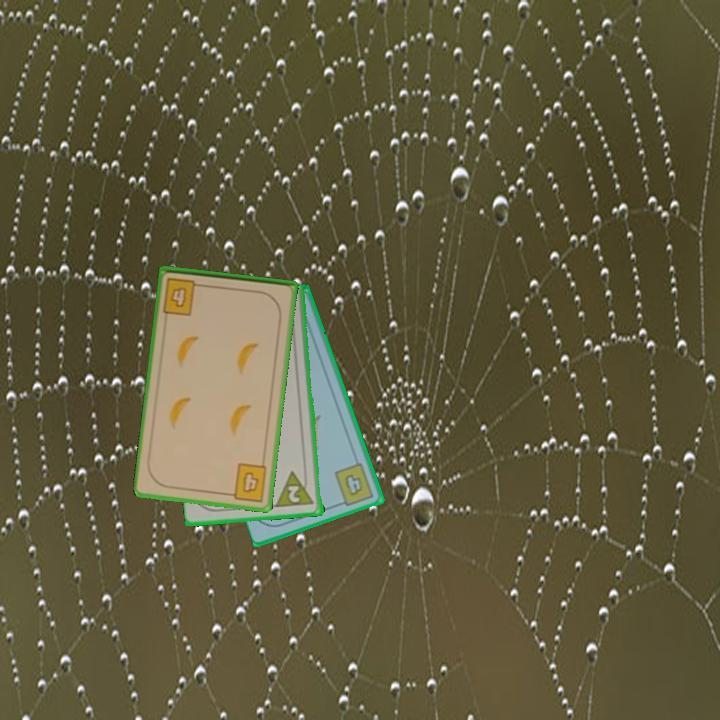2p: (274, 467, 317, 510)
4b: (331, 459, 377, 509), (159, 274, 207, 318), (224, 460, 270, 505)
